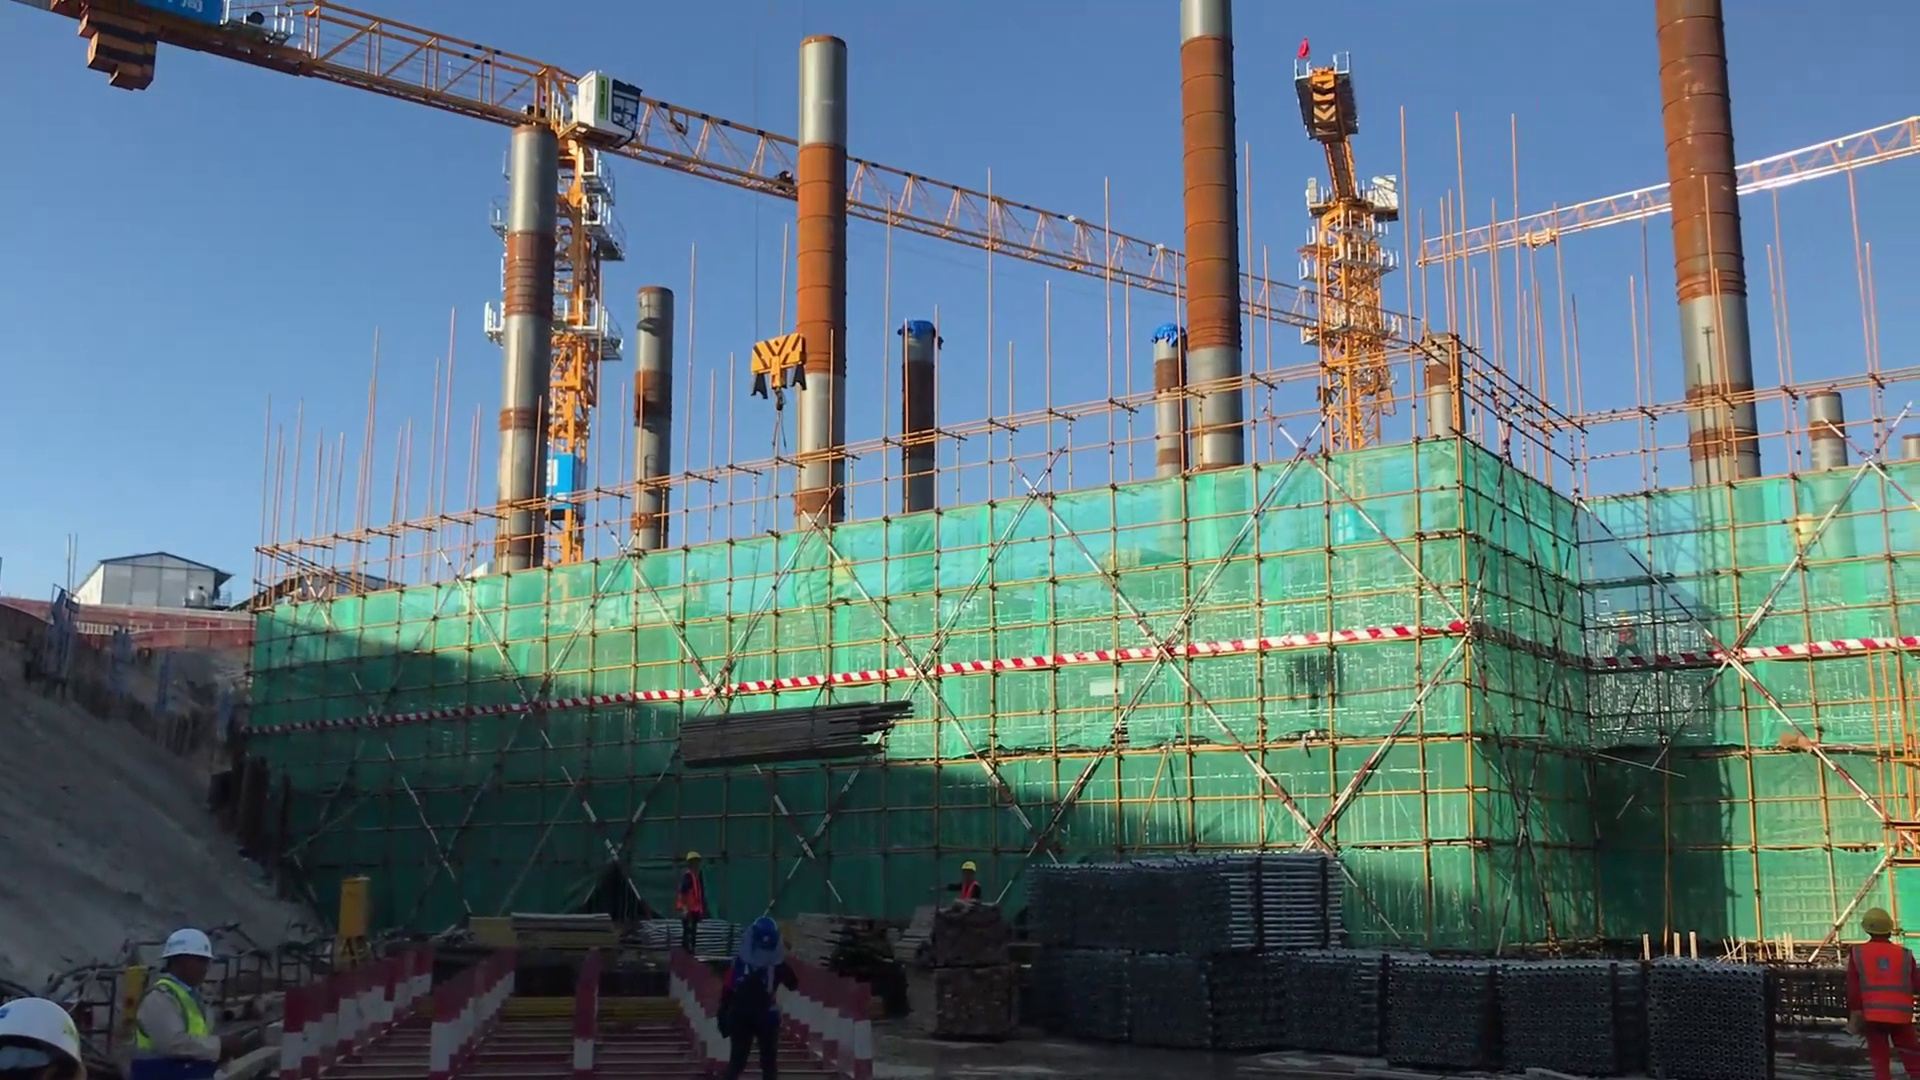ebox: (333, 871, 373, 941)
helmet: (6, 993, 101, 1076), (149, 934, 210, 981), (1857, 903, 1897, 944), (749, 917, 783, 950), (678, 847, 707, 871), (957, 859, 982, 883)
hook: (752, 330, 806, 402)
person: (122, 918, 221, 1080), (1834, 891, 1920, 1070), (722, 907, 800, 1080), (665, 843, 712, 964), (940, 852, 992, 926)
scaffold: (1134, 844, 1333, 957), (1630, 948, 1783, 1060), (1494, 950, 1635, 1066), (1385, 946, 1506, 1080), (1026, 855, 1137, 955)
vest: (128, 985, 218, 1072), (734, 955, 797, 1057), (1849, 943, 1914, 1030), (950, 882, 980, 916)
wood: (672, 696, 907, 774)
